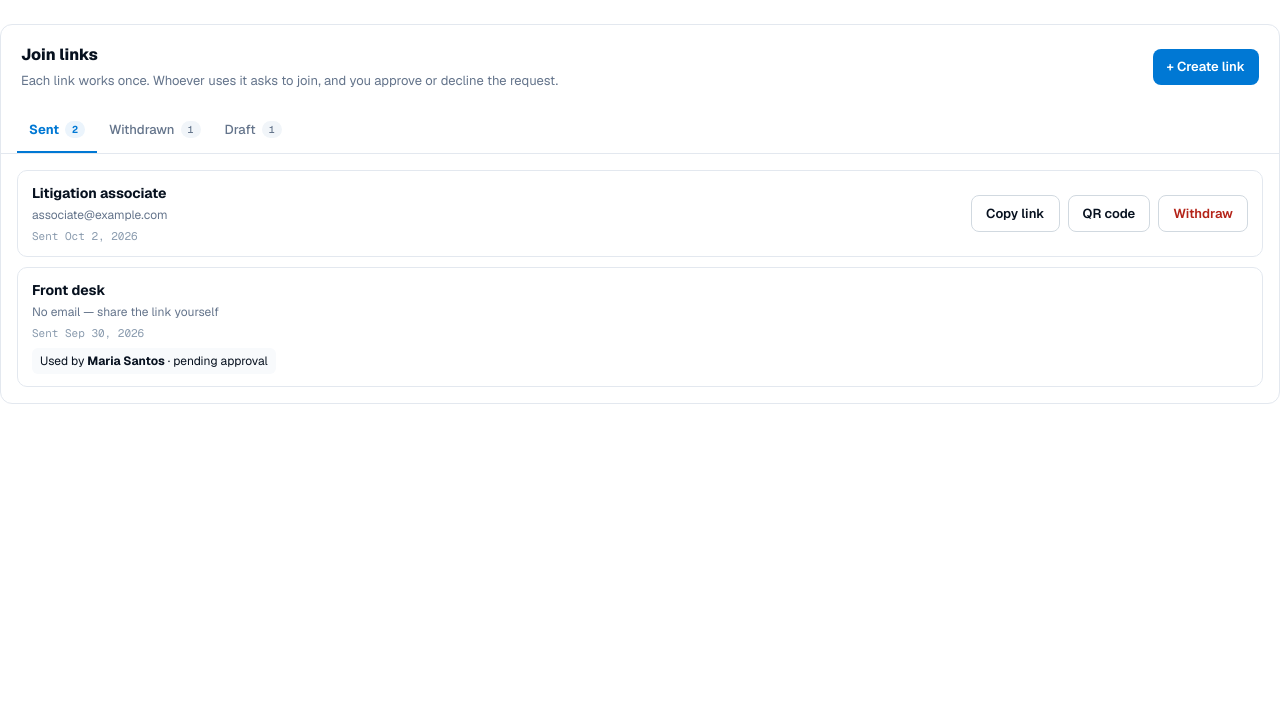
Test: JoinLinksSection › rejects an invalid email
Check: the list item with test id "join-ticket-jt_demo_sent" is shown, box 17,170 -> 1263,257
Click the button "+ Create link" at [1206, 67], box 1152,49 -> 1259,85
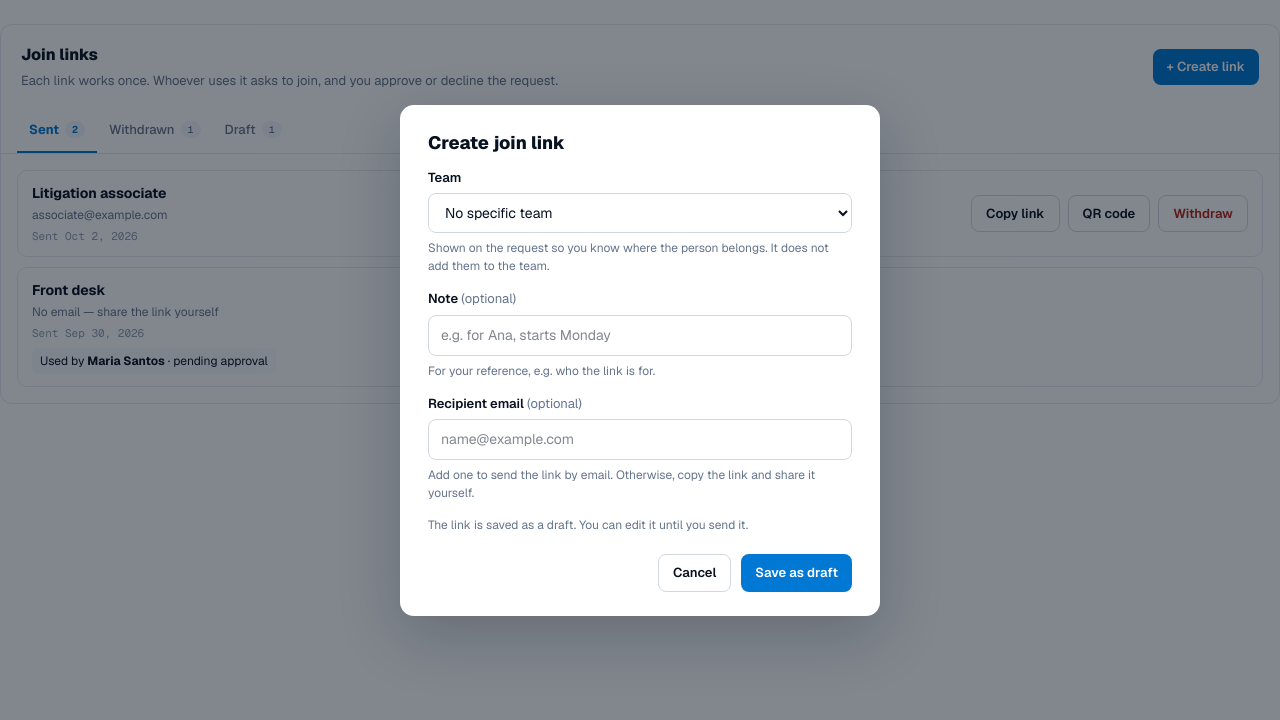
Type "X team" into the field labelled "Note (optional)" at [640, 335], box 428,314 -> 852,356
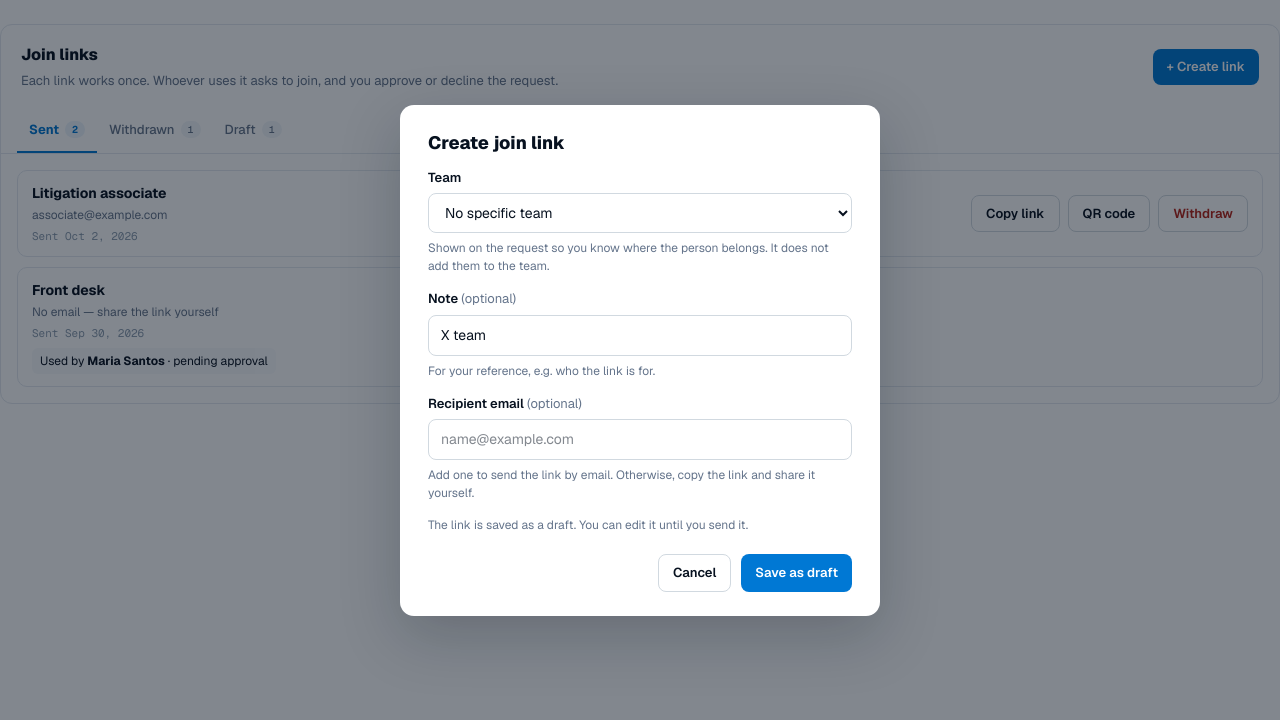
Type "not-an-email" into the field labelled "Recipient email (optional)" at [640, 440], box 428,419 -> 852,460
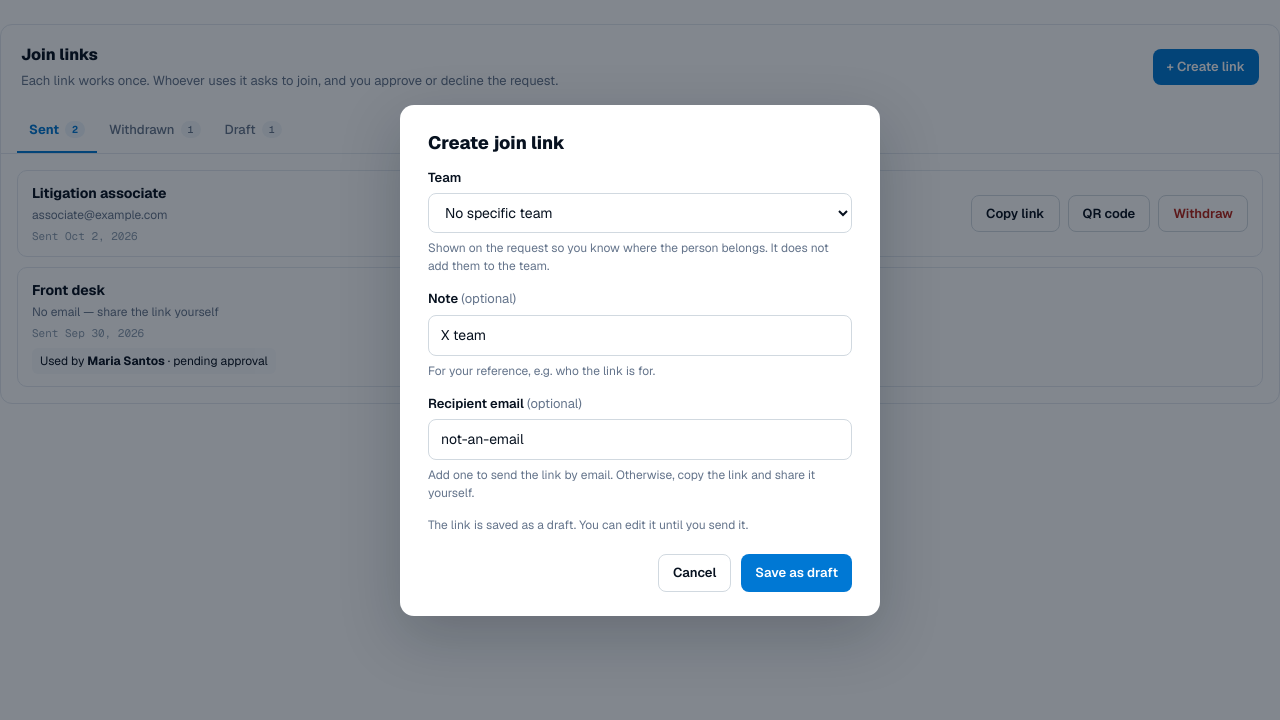
Click the button "Save as draft" at [797, 573], box 741,554 -> 852,592
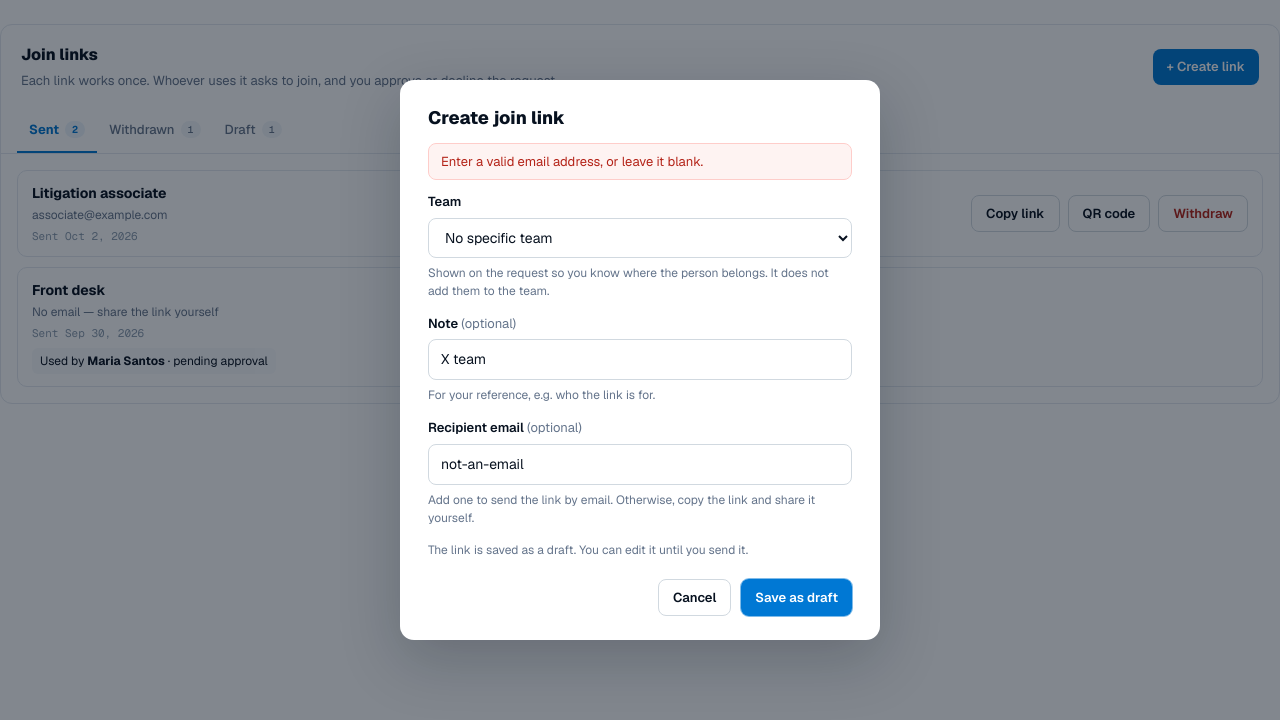
Check: the message shows "Enter a valid email address", box 441,153 -> 703,170
